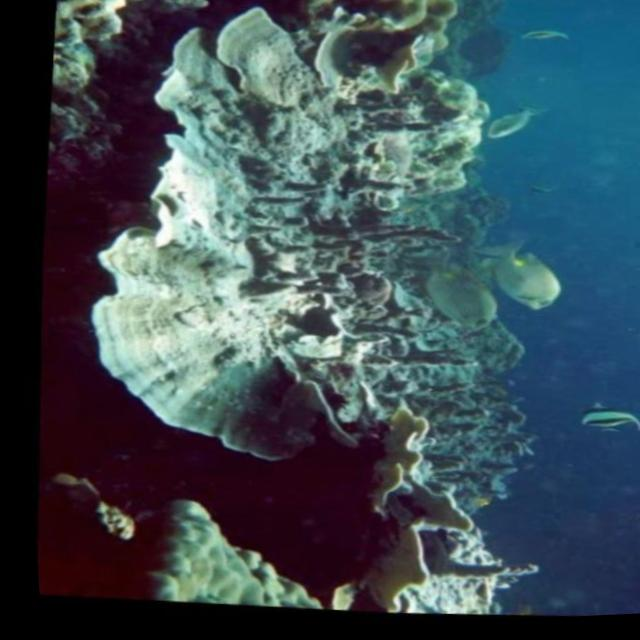Dead Coral: (39, 0, 556, 622)
